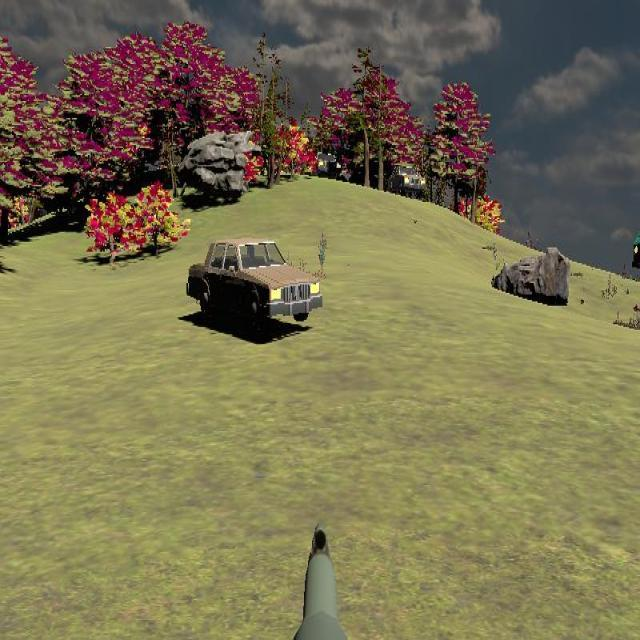car: (186, 237, 322, 337), (389, 163, 425, 199), (314, 152, 341, 180)
